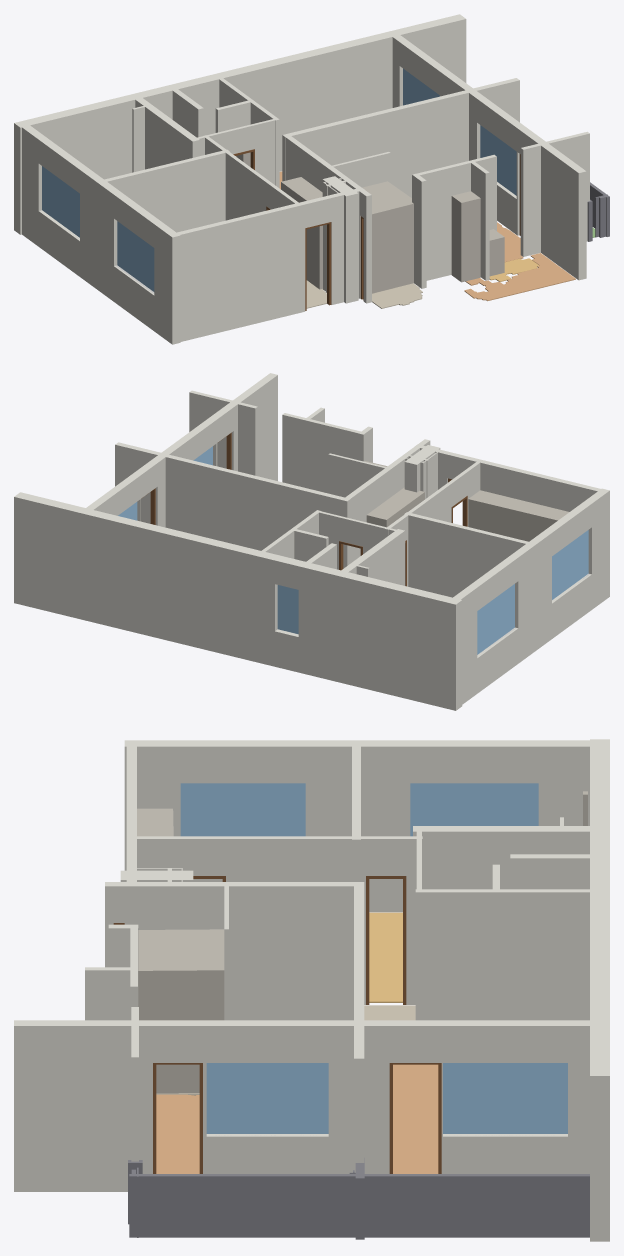
The picture shows the model from 3 angles, top to bottom: view 1: azimuth 30°, elevation 25°; view 2: azimuth 150°, elevation 25°; view 3: azimuth 270°, elevation 25°; orthographic projection. The views are drawn at different scales.
Visible parts, largest first — view 1: walls, furniture_3_closet, furniture_5_closet, floor_10_Living_Room, window_5, window_4, furniture_2_closet, window_8, railings, floor_11_Entry, window_0, furniture_10_appliance (+3 smaller); view 2: walls, furniture_4_closet, window_5, window_4, furniture_2_closet, window_2; view 3: walls, railings, furniture_3_closet, window_0, window_8, window_4, window_5, floor_3_Living_Room, floor_9_Living_Room, floor_0_Kitchen, door_10, furniture_4_closet (+3 smaller).
Part boxes in pixels (<box>): walls: <box>14,14,589,344</box>; furniture_3_closet: <box>362,181,413,293</box>; furniture_5_closet: <box>451,191,480,282</box>; floor_10_Living_Room: <box>464,253,575,301</box>; window_5: <box>42,166,79,237</box>; window_4: <box>117,221,154,291</box>; furniture_2_closet: <box>281,177,322,289</box>; window_8: <box>480,125,516,195</box>; railings: <box>587,182,609,241</box>; floor_11_Entry: <box>372,283,422,308</box>; window_0: <box>403,68,439,105</box>; furniture_10_appliance: <box>489,229,504,276</box>; walls: <box>14,373,609,710</box>; furniture_4_closet: <box>468,490,569,541</box>; window_5: <box>477,584,514,654</box>; window_4: <box>552,530,588,599</box>; furniture_2_closet: <box>366,487,424,527</box>; window_2: <box>277,585,298,634</box>; walls: <box>14,739,609,1241</box>; railings: <box>128,1158,589,1239</box>; furniture_3_closet: <box>138,929,224,1093</box>; window_0: <box>443,1063,567,1133</box>; window_8: <box>206,1063,328,1133</box>; window_4: <box>180,783,305,836</box>; window_5: <box>410,783,538,836</box>; floor_3_Living_Room: <box>393,1064,438,1173</box>; floor_9_Living_Room: <box>156,1094,199,1173</box>; floor_0_Kitchen: <box>369,912,402,1002</box>; door_10: <box>366,876,406,1004</box>; furniture_4_closet: <box>137,808,173,836</box>.
Size of the model in its own units: 11.75 by 2.72 by 8.79.
